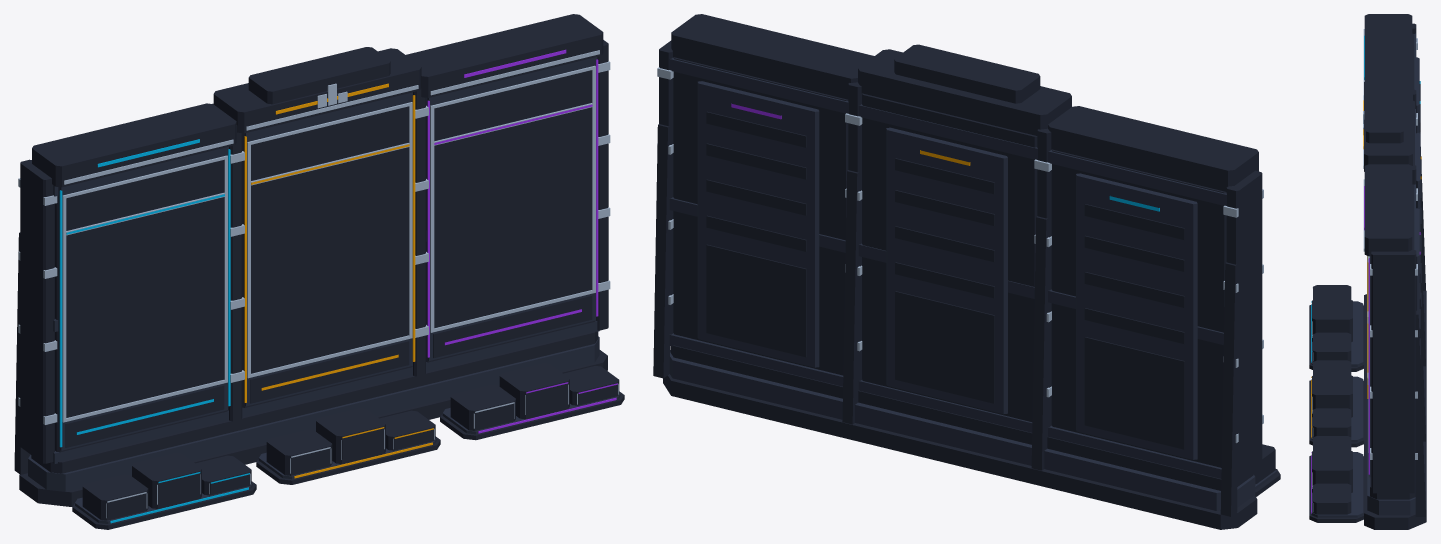
The model's file is SM_Hub_Leaderboard_01.obj.
3 views of the same model, side by side, from view 1: azimuth 30°, elevation 25°; view 2: azimuth 150°, elevation 25°; view 3: azimuth 270°, elevation 25° (orthographic). The views are drawn at different scales.
Parts seen in each view (by area): view 1: GEO_Leaderboard_UIMain_B_SessionWins, GEO_Leaderboard_UIMain_A_SessionKOs, GEO_Leaderboard_UIMain_C_SessionStandings, GEO_Leaderboard_CanopyCrown, GEO_Leaderboard_SupportPiers, GEO_Leaderboard_LightTrim, GEO_Leaderboard_WallPlinth, GEO_Leaderboard_WallPedestal, GEO_Leaderboard_UIHeader_B_SessionWins, GEO_Leaderboard_UIHeader_A_SessionKOs, GEO_Leaderboard_Module_A_Housing, GEO_Leaderboard_UIHeader_C_SessionStandings (+26 smaller); view 2: GEO_Leaderboard_RearSpine, GEO_Leaderboard_RearServicePanels, GEO_Leaderboard_CanopyCrown, GEO_Leaderboard_WallPlinth, GEO_Leaderboard_Module_B_Housing, GEO_Leaderboard_CrossGirders, GEO_Leaderboard_RearStabilizers, GEO_Leaderboard_Module_A_Housing, GEO_Leaderboard_Module_C_Housing, GEO_Leaderboard_SupportPiers, GEO_Leaderboard_WallPedestal, GEO_Leaderboard_CollarClamps; view 3: GEO_Leaderboard_CanopyCrown, GEO_Leaderboard_SupportPiers, GEO_Leaderboard_WallPlinth, GEO_Leaderboard_RearStabilizers, GEO_Leaderboard_Podium_B1_1ST, GEO_Leaderboard_Podium_A1_1ST, GEO_Leaderboard_Podium_C1_1ST, GEO_Leaderboard_Podium_C3_3RD, GEO_Leaderboard_Podium_A3_3RD, GEO_Leaderboard_Podium_B3_3RD, GEO_Leaderboard_RearSpine, GEO_Leaderboard_WallPedestal (+18 smaller).
Part boxes in pixels (bbox=[...]): GEO_Leaderboard_UIMain_B_SessionWins: bbox=[251, 147, 408, 373]; GEO_Leaderboard_UIMain_A_SessionKOs: bbox=[66, 197, 224, 417]; GEO_Leaderboard_UIMain_C_SessionStandings: bbox=[434, 107, 591, 328]; GEO_Leaderboard_CanopyCrown: bbox=[32, 14, 603, 187]; GEO_Leaderboard_SupportPiers: bbox=[20, 40, 608, 463]; GEO_Leaderboard_LightTrim: bbox=[62, 50, 599, 422]; GEO_Leaderboard_WallPlinth: bbox=[19, 331, 607, 506]; GEO_Leaderboard_WallPedestal: bbox=[28, 336, 599, 491]; GEO_Leaderboard_UIHeader_B_SessionWins: bbox=[251, 106, 408, 180]; GEO_Leaderboard_UIHeader_A_SessionKOs: bbox=[66, 160, 224, 230]; GEO_Leaderboard_Module_A_Housing: bbox=[55, 187, 227, 452]; GEO_Leaderboard_UIHeader_C_SessionStandings: bbox=[434, 70, 591, 140]; GEO_Leaderboard_RearSpine: bbox=[697, 81, 1197, 459]; GEO_Leaderboard_RearServicePanels: bbox=[706, 111, 1184, 449]; GEO_Leaderboard_CanopyCrown: bbox=[671, 14, 1258, 191]; GEO_Leaderboard_WallPlinth: bbox=[663, 345, 1257, 529]; GEO_Leaderboard_Module_B_Housing: bbox=[862, 93, 1037, 421]; GEO_Leaderboard_CrossGirders: bbox=[669, 58, 1226, 478]; GEO_Leaderboard_RearStabilizers: bbox=[653, 124, 1237, 516]; GEO_Leaderboard_Module_A_Housing: bbox=[1051, 149, 1226, 467]; GEO_Leaderboard_Module_C_Housing: bbox=[673, 57, 848, 375]; GEO_Leaderboard_SupportPiers: bbox=[659, 40, 1262, 482]; GEO_Leaderboard_WallPedestal: bbox=[669, 350, 1255, 510]; GEO_Leaderboard_CollarClamps: bbox=[657, 67, 1263, 443]; GEO_Leaderboard_CanopyCrown: bbox=[1364, 14, 1412, 256]; GEO_Leaderboard_SupportPiers: bbox=[1371, 23, 1416, 493]; GEO_Leaderboard_WallPlinth: bbox=[1364, 290, 1426, 529]; GEO_Leaderboard_RearStabilizers: bbox=[1415, 147, 1425, 516]; GEO_Leaderboard_Podium_B1_1ST: bbox=[1312, 374, 1352, 417]; GEO_Leaderboard_Podium_A1_1ST: bbox=[1312, 299, 1352, 341]; GEO_Leaderboard_Podium_C1_1ST: bbox=[1312, 450, 1352, 492]; GEO_Leaderboard_Podium_C3_3RD: bbox=[1313, 483, 1351, 514]; GEO_Leaderboard_Podium_A3_3RD: bbox=[1313, 332, 1351, 361]; GEO_Leaderboard_Podium_B3_3RD: bbox=[1313, 408, 1351, 437]; GEO_Leaderboard_RearSpine: bbox=[1416, 57, 1420, 336]; GEO_Leaderboard_WallPedestal: bbox=[1367, 399, 1415, 515].
Bounding box in the file's own units: 42 × 26 × 9.
6 materials, 6 textured.
